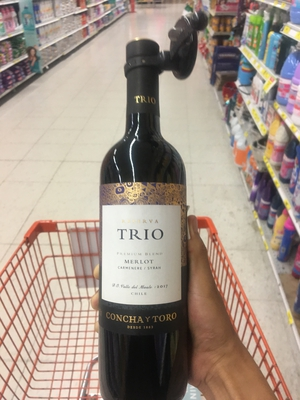trio merlot: (84, 36, 206, 367)
